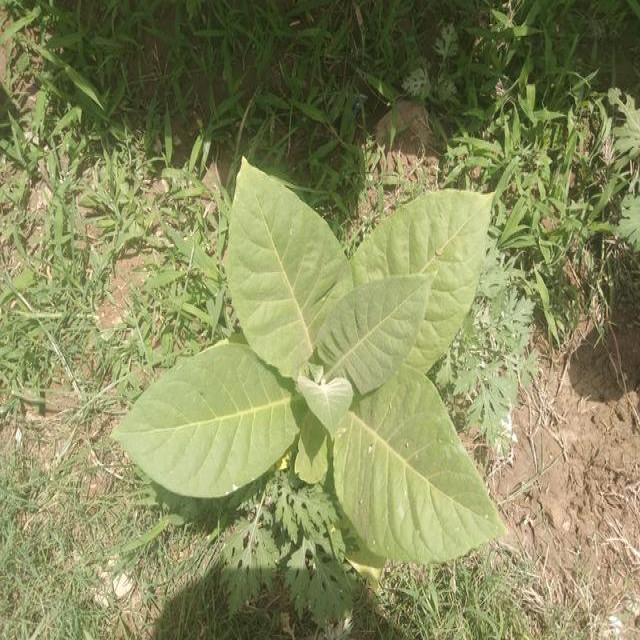crop: (134, 157, 503, 560)
